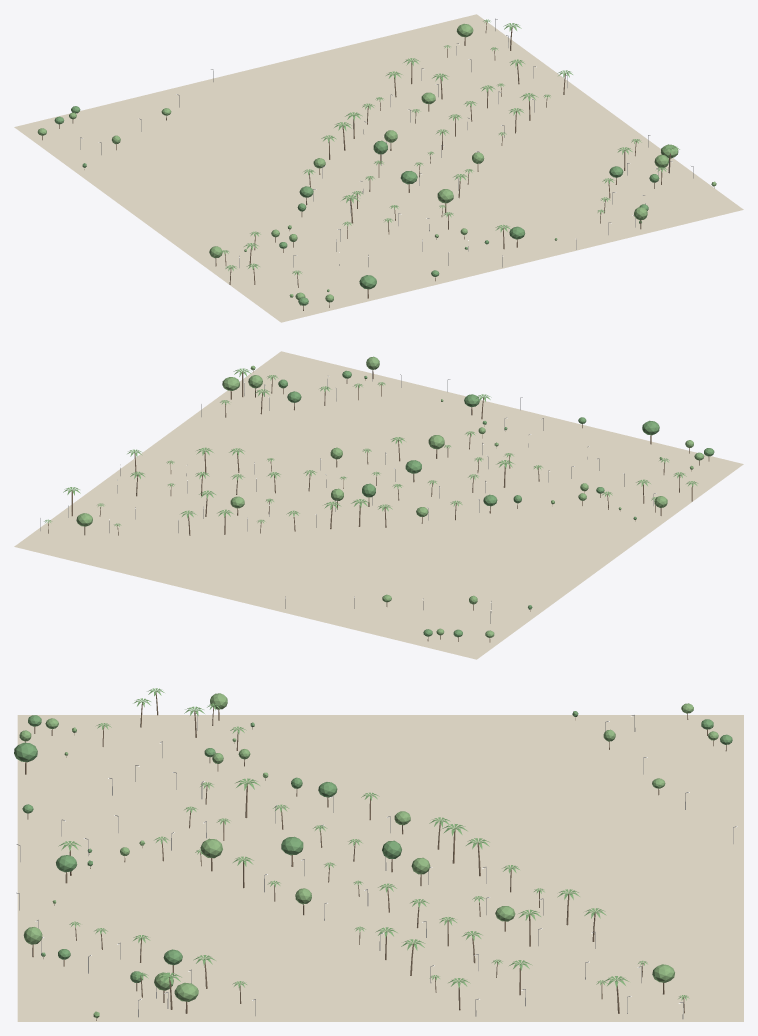
The model's file is nature_2_3.glb.
3 views of the same model, one above another, from view 1: azimuth 30°, elevation 25°; view 2: azimuth 150°, elevation 25°; view 3: azimuth 270°, elevation 25° (orthographic). The views are drawn at different scales.
Visible parts, largest first — view 1: ground, palm_leaf, foliage_b, trunk, foliage_a, lamp_pole; view 2: ground, palm_leaf, foliage_b, trunk, foliage_a, lamp_pole; view 3: ground, palm_leaf, foliage_b, foliage_a, trunk, lamp_pole.
Boxes of the visible parts, x1=… form: ground: x1=14, y1=14, x2=743, y2=322; palm_leaf: x1=222, y1=19, x2=679, y2=275; foliage_b: x1=37, y1=23, x2=716, y2=302; trunk: x1=42, y1=21, x2=714, y2=310; foliage_a: x1=54, y1=106, x2=659, y2=305; lamp_pole: x1=80, y1=18, x2=693, y2=267; ground: x1=14, y1=351, x2=743, y2=659; palm_leaf: x1=44, y1=368, x2=698, y2=526; foliage_b: x1=76, y1=356, x2=704, y2=637; trunk: x1=48, y1=370, x2=709, y2=642; foliage_a: x1=278, y1=370, x2=714, y2=637; lamp_pole: x1=40, y1=369, x2=655, y2=623; ground: x1=17, y1=715, x2=743, y2=1021; palm_leaf: x1=58, y1=688, x2=689, y2=1000; foliage_b: x1=19, y1=693, x2=718, y2=1018; foliage_a: x1=14, y1=711, x2=732, y2=982; trunk: x1=25, y1=691, x2=726, y2=1020; lamp_pole: x1=16, y1=713, x2=736, y2=1018.
Bounding box in the file's own units: 254 × 13.56 × 251.
